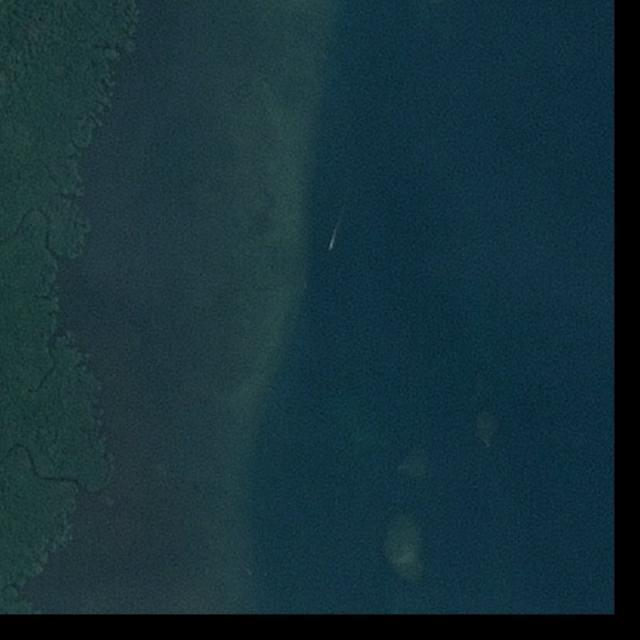ship: (328, 244, 333, 252)
